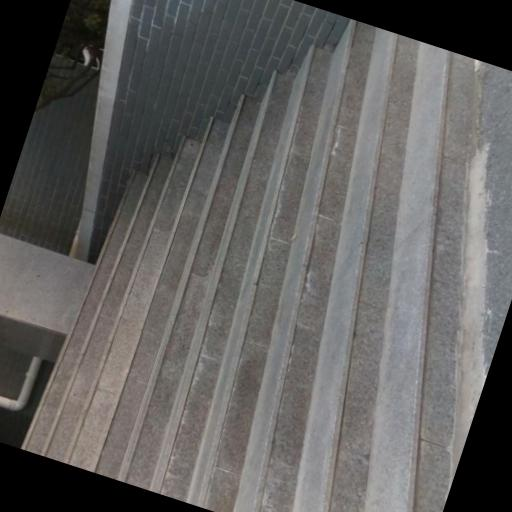stairs: (24, 20, 475, 511)
